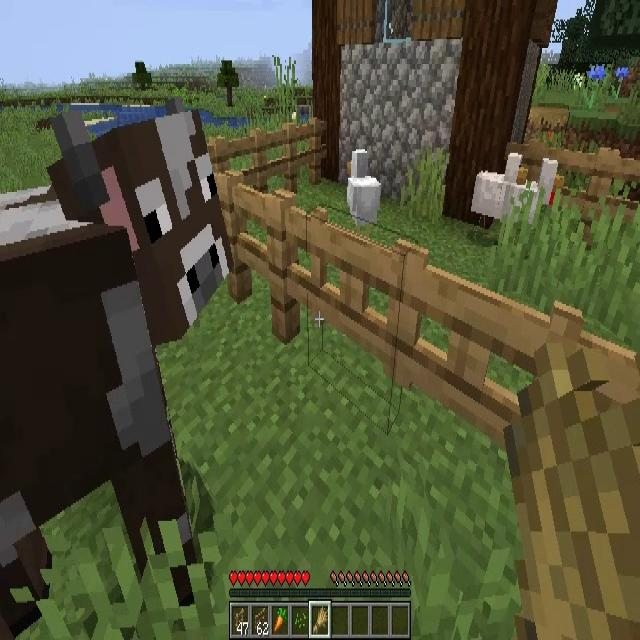cow: (0, 99, 234, 640)
duck: (470, 152, 528, 242), (348, 150, 380, 236), (530, 159, 565, 209)
